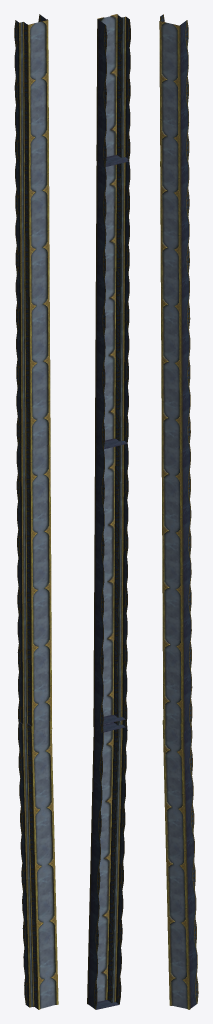
The model's file is juqing_yewai_609_border_03a65.obj.
The picture shows the model from 3 angles, left to right: view 1: azimuth 30°, elevation 25°; view 2: azimuth 210°, elevation 25°; view 3: azimuth 330°, elevation 25°; orthographic projection.
Parts seen in each view (by area): view 1: juqing_yewai_609_border_03a65; view 2: juqing_yewai_609_border_03a65; view 3: juqing_yewai_609_border_03a65.
Boxes of the visible parts, x1,y1,x2,y2 form: juqing_yewai_609_border_03a65: [14, 14, 58, 1009]; juqing_yewai_609_border_03a65: [87, 14, 130, 1009]; juqing_yewai_609_border_03a65: [159, 14, 198, 1009].
Bounding box in the file's own units: 126 × 3439 × 61.58.
Materials: 1 (1 with a texture image).
